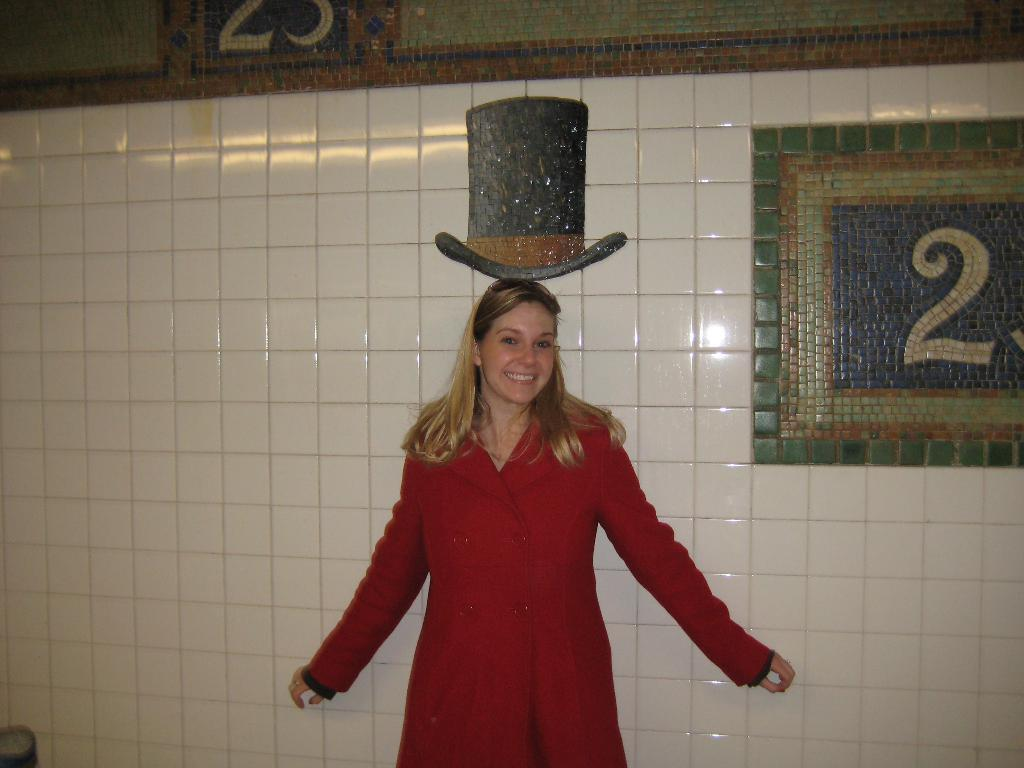Hat: (432, 98, 628, 278)
